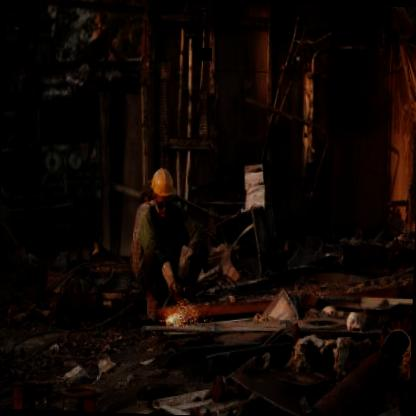helmet: (146, 166, 178, 216)
